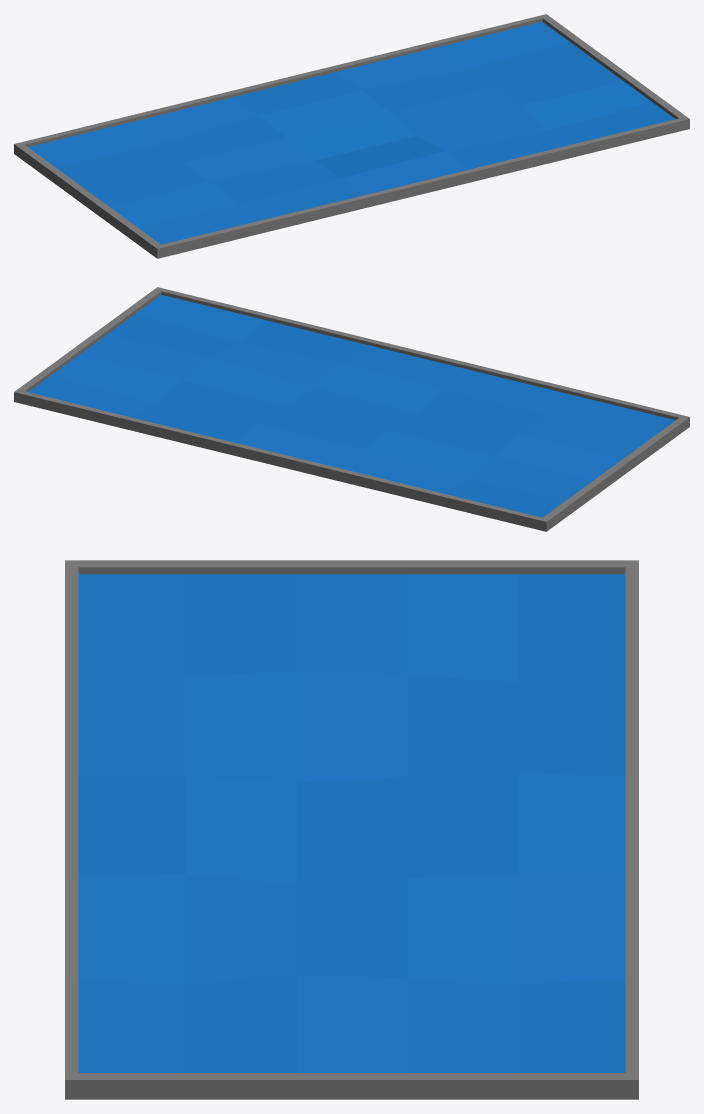
Rendered from KoiPond.fbx.
The picture shows the model from 3 angles, top to bottom: view 1: azimuth 30°, elevation 25°; view 2: azimuth 150°, elevation 25°; view 3: azimuth 270°, elevation 25°; orthographic projection. The views are drawn at different scales.
Parts seen in each view (by area): view 1: KoiPond2; view 2: KoiPond2; view 3: KoiPond2.
Part boxes in pixels (x1,y1,x2,y2): KoiPond2: (14, 14, 689, 258); KoiPond2: (14, 287, 689, 531); KoiPond2: (65, 560, 638, 1099).
Size of the model in its own units: 750 by 13.29 by 350.
